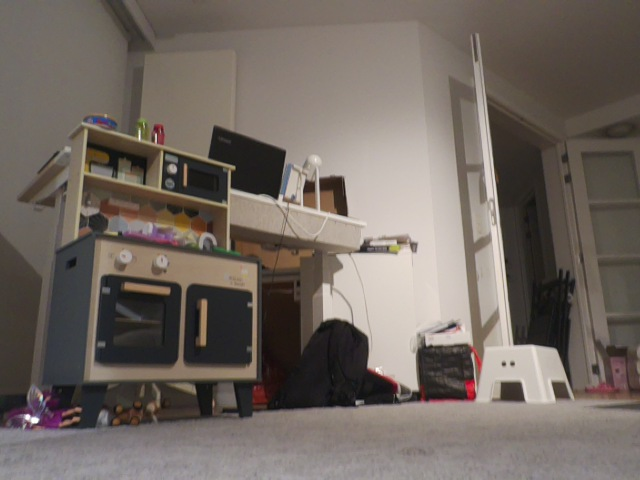backpack: (267, 310, 389, 445)
desk: (212, 140, 404, 348)
door: (567, 140, 639, 346), (468, 33, 514, 347)
furniture: (34, 123, 289, 448)
stool: (476, 344, 574, 403)
